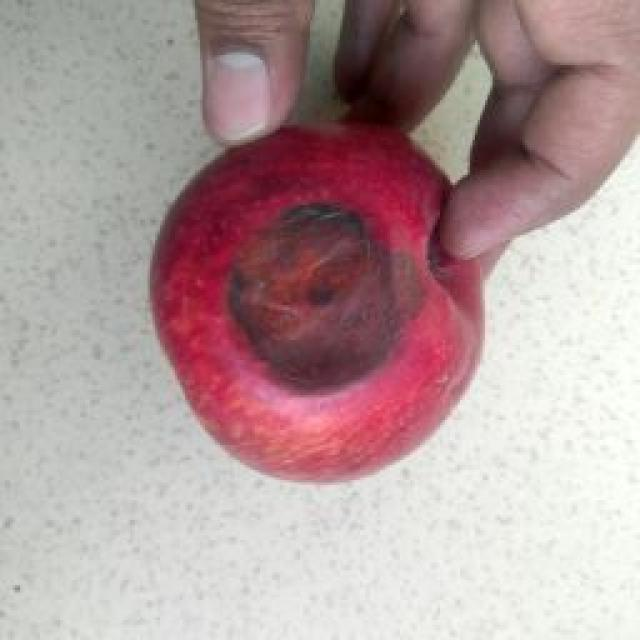Bad_Apple: (151, 125, 482, 481)
